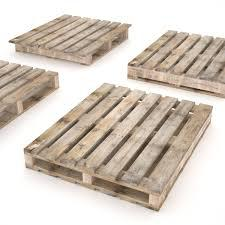wood: (24, 78, 215, 211), (127, 27, 224, 101), (8, 12, 133, 66), (1, 56, 64, 130)
